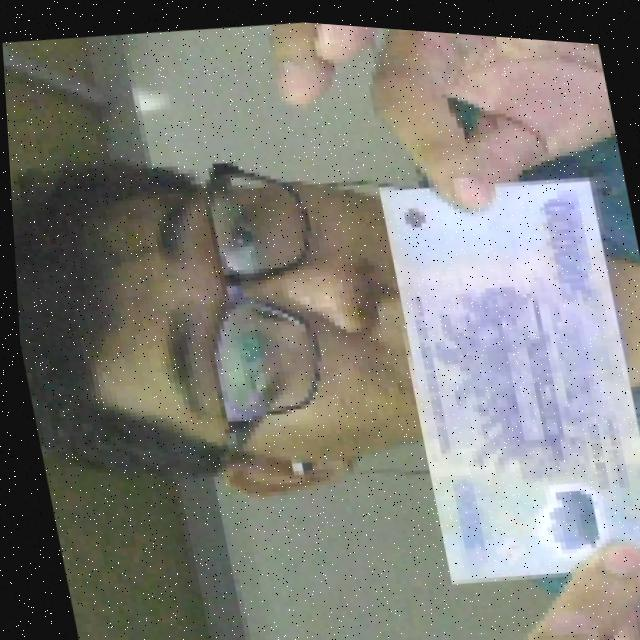500 000 VND: (360, 145, 640, 598)
